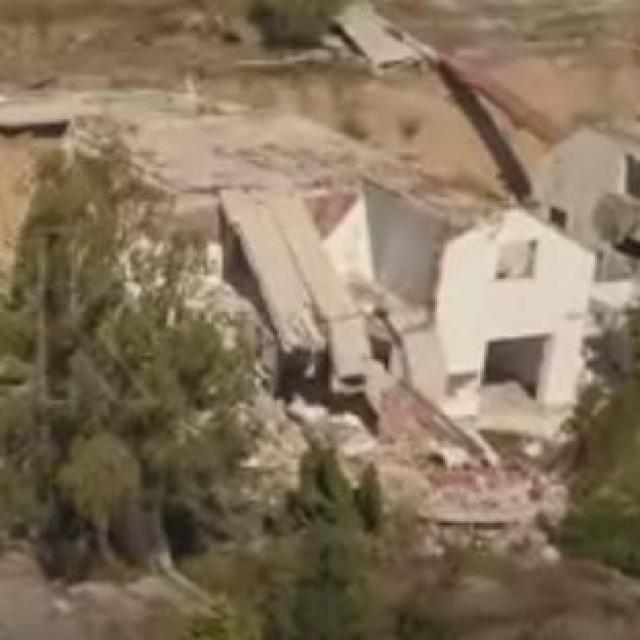collapsed_building: (175, 177, 582, 490)
